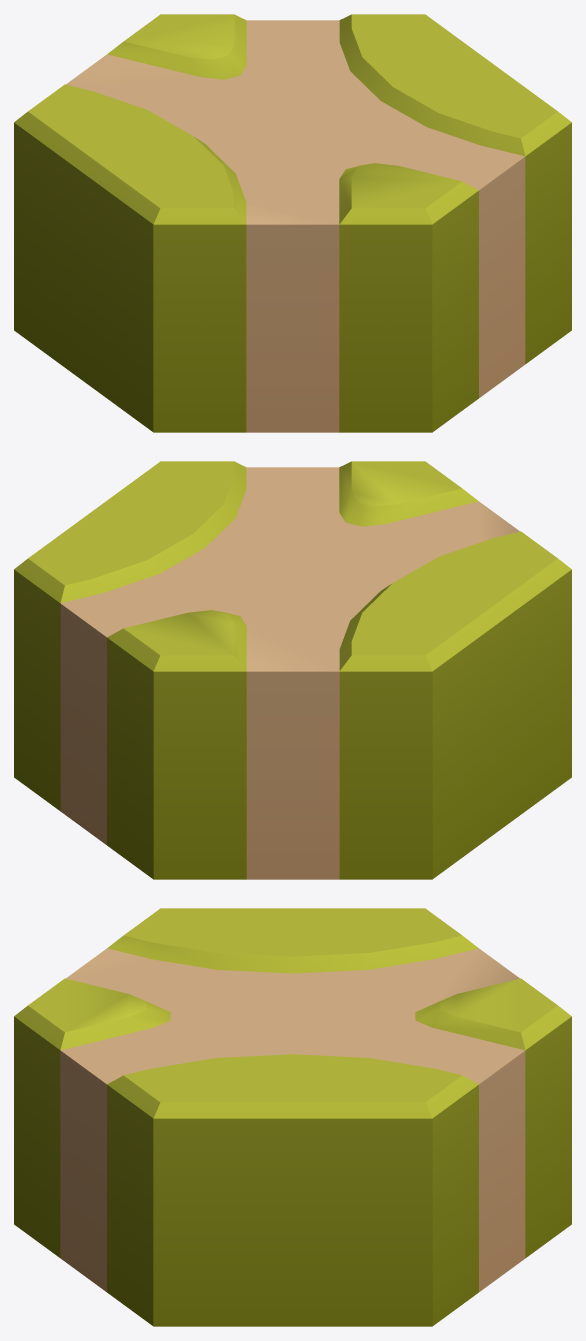
The model's file is hex_road_I.glb.
3 renders of one model, top to bottom at view 1: azimuth 30°, elevation 25°; view 2: azimuth 150°, elevation 25°; view 3: azimuth 270°, elevation 25°, orthographic.
Visible parts, largest first — view 1: hex_road_I; view 2: hex_road_I; view 3: hex_road_I.
Boxes of the visible parts, left/top/right/bottom form: hex_road_I: left=14, top=14, right=571, bottom=432; hex_road_I: left=14, top=461, right=571, bottom=879; hex_road_I: left=14, top=908, right=571, bottom=1326.
Size of the model in its own units: 2 by 1 by 2.31.
Materials: 1 (1 with a texture image).
